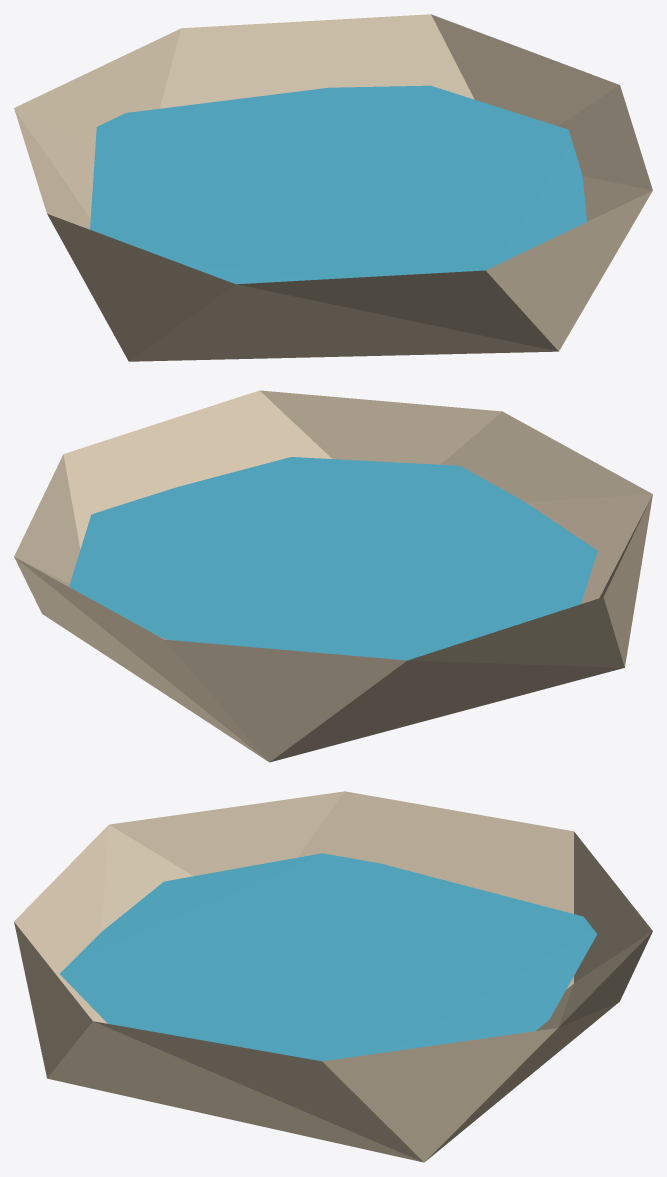
Rendered from terra_water_dish.fbx.
The picture shows the model from 3 angles, top to bottom: view 1: azimuth 30°, elevation 25°; view 2: azimuth 150°, elevation 25°; view 3: azimuth 270°, elevation 25°; orthographic projection.
Visible parts, largest first — view 1: terra_water_dish; view 2: terra_water_dish; view 3: terra_water_dish.
Boxes of the visible parts, x1,y1,x2,y2 form: terra_water_dish: (14,14,652,361); terra_water_dish: (14,390,652,762); terra_water_dish: (14,791,652,1162).
Bounding box in the file's own units: 0.6 × 0.12 × 0.6.
